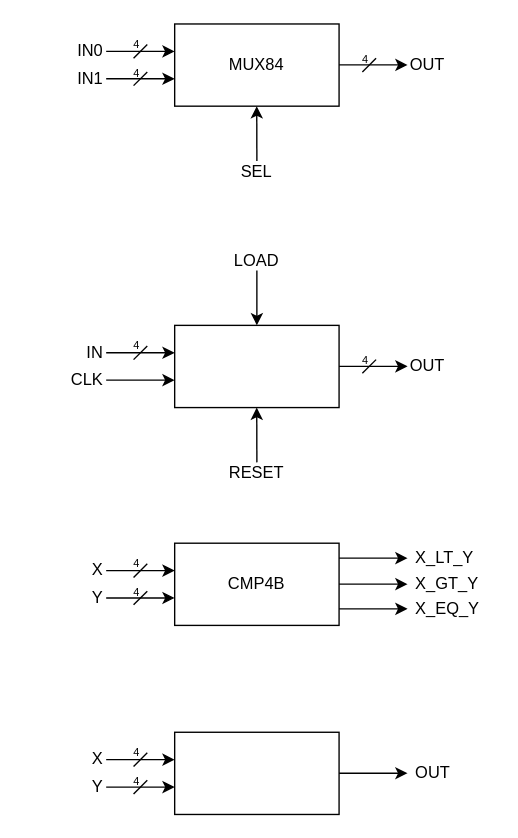
Image size: 518x838. Some labels were removed from this diagram. The shapes that lost their labels are listed below. From the top down, each one's box as (x1, y1, x2, y2) in pixels, then its label:
(173, 324, 339, 408): REG4B
(173, 731, 339, 814): SUB4B
